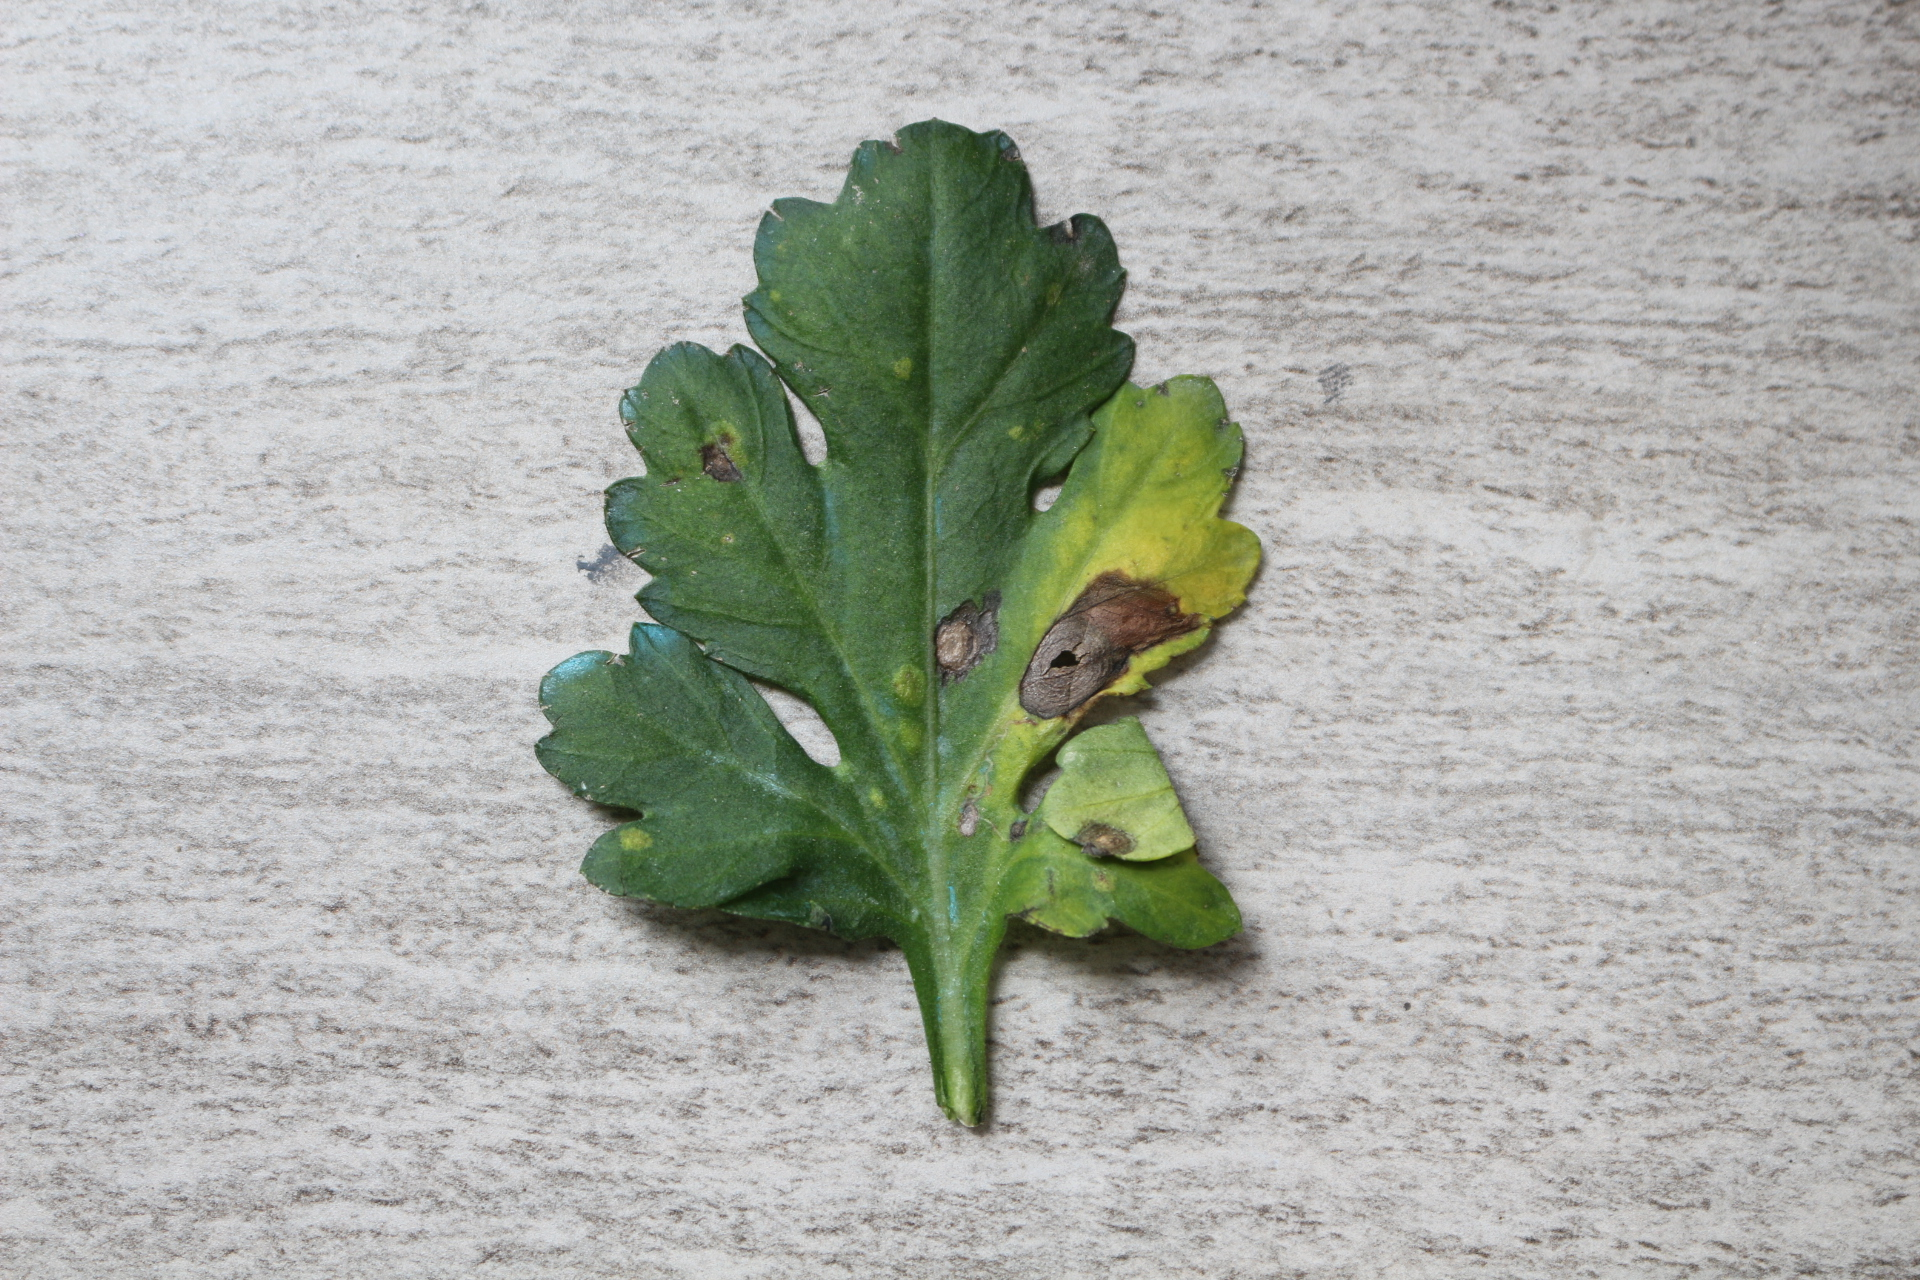namden: (1026, 581, 1201, 710), (929, 587, 1003, 681), (1069, 820, 1147, 866), (699, 441, 749, 483), (956, 794, 981, 839)
namsung: (889, 661, 933, 709), (884, 719, 930, 753), (609, 827, 660, 856), (890, 360, 923, 389), (859, 781, 891, 806)
